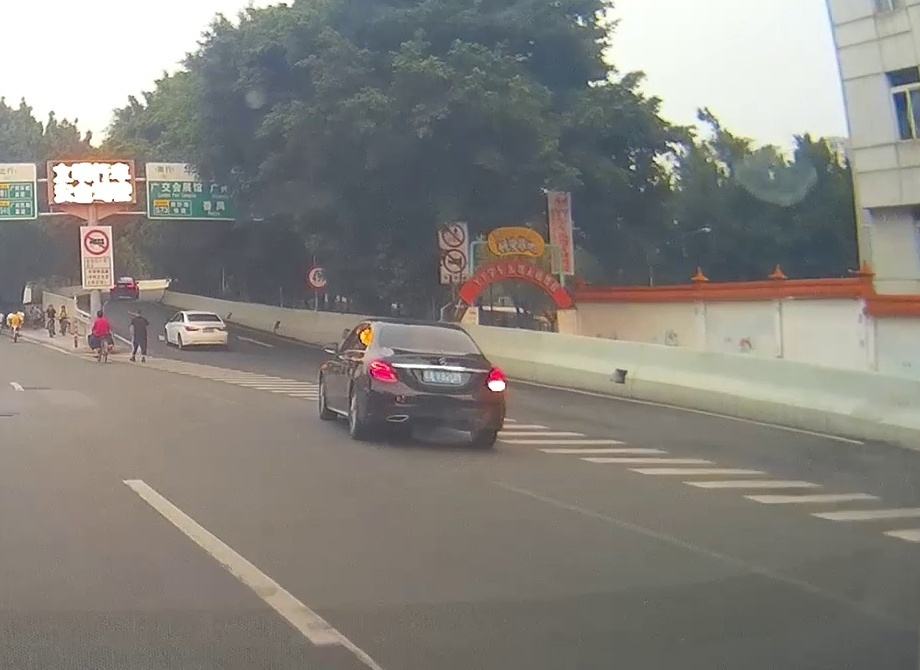L_light: (369, 359, 398, 383), (185, 326, 199, 331)
R_light: (483, 366, 506, 392), (217, 326, 227, 331)
T_light: (417, 326, 434, 332), (199, 314, 206, 316)
day-no: (182, 310, 228, 350)
day-right: (358, 318, 509, 448)
